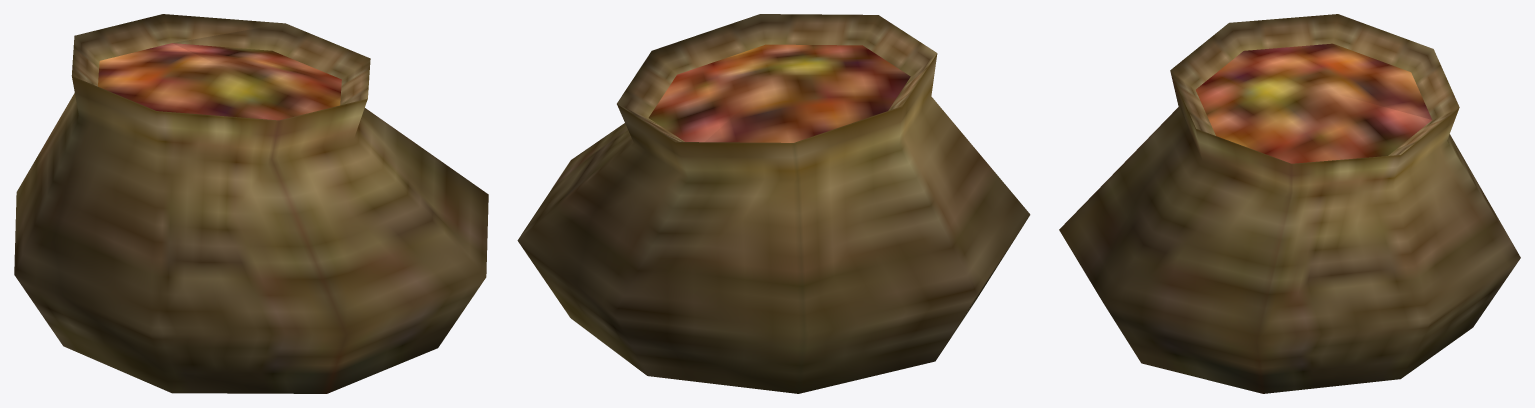
File: GYMA00038_07.FBX
3 renders of one model, left to right at view 1: azimuth 30°, elevation 25°; view 2: azimuth 150°, elevation 25°; view 3: azimuth 270°, elevation 25°, orthographic. The views are drawn at different scales.
Visible parts, largest first — view 1: MA00038_07; view 2: MA00038_07; view 3: MA00038_07.
Part boxes in pixels (x1=…): MA00038_07: x1=14, y1=14, x2=488, y2=393; MA00038_07: x1=517, y1=14, x2=1030, y2=393; MA00038_07: x1=1059, y1=14, x2=1520, y2=393.
Bounding box in the file's own units: 0.8593 × 0.4854 × 0.8593.
